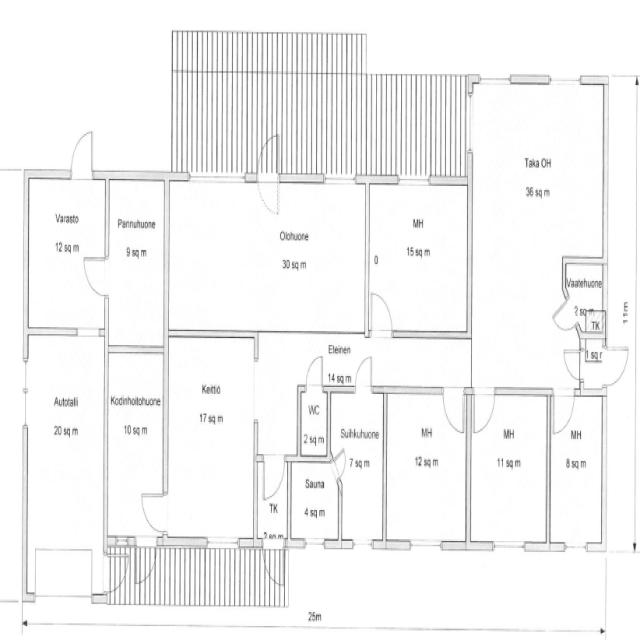door: (165, 332, 257, 542), (255, 136, 282, 220), (68, 124, 97, 184), (367, 286, 395, 340), (80, 250, 110, 299), (139, 488, 169, 536), (260, 452, 286, 503), (441, 385, 466, 435), (603, 342, 630, 388), (471, 386, 496, 435), (551, 388, 576, 436), (262, 544, 286, 592), (135, 543, 157, 585), (304, 352, 326, 393), (353, 353, 375, 394), (562, 345, 584, 382), (111, 555, 129, 593), (332, 448, 346, 484)
window: (284, 168, 363, 188), (185, 169, 251, 187), (388, 170, 442, 188), (20, 358, 31, 423), (477, 69, 512, 88), (547, 70, 583, 88), (407, 537, 444, 554), (491, 538, 527, 555), (562, 540, 588, 556), (350, 536, 375, 552), (329, 381, 354, 396), (303, 536, 327, 551)
zone: (467, 77, 607, 297), (167, 333, 256, 544), (368, 179, 470, 335), (384, 388, 468, 544), (26, 174, 108, 332), (468, 390, 550, 546), (106, 173, 166, 348), (550, 391, 603, 548), (334, 386, 385, 546), (290, 458, 340, 544), (562, 260, 606, 332), (298, 386, 329, 458), (579, 328, 606, 395)
